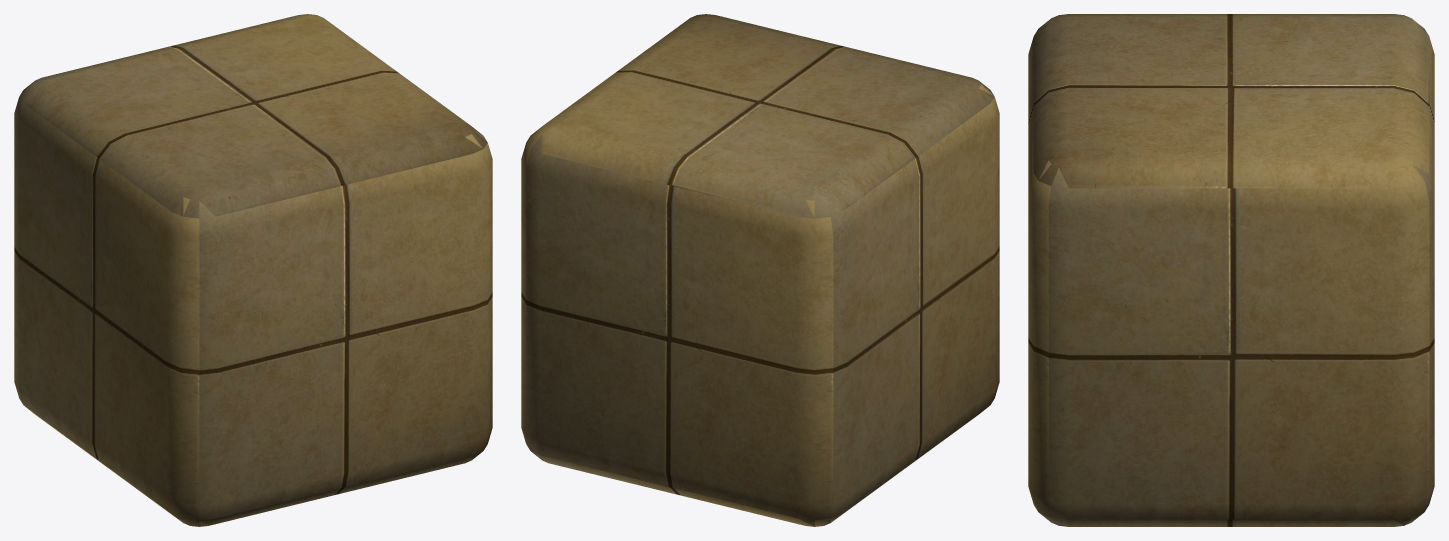
Rendered from chamfercube.FBX.
The picture shows the model from 3 angles, left to right: view 1: azimuth 30°, elevation 25°; view 2: azimuth 150°, elevation 25°; view 3: azimuth 270°, elevation 25°; orthographic projection. The views are drawn at different scales.
Parts seen in each view (by area): view 1: ChamferBox01; view 2: ChamferBox01; view 3: ChamferBox01.
Part boxes in pixels (x1,y1,x2,y2): ChamferBox01: (14,14,492,526); ChamferBox01: (521,14,999,526); ChamferBox01: (1028,14,1434,526).
Bounding box in the file's own units: 100 × 100 × 100.
1 material, 1 textured.
